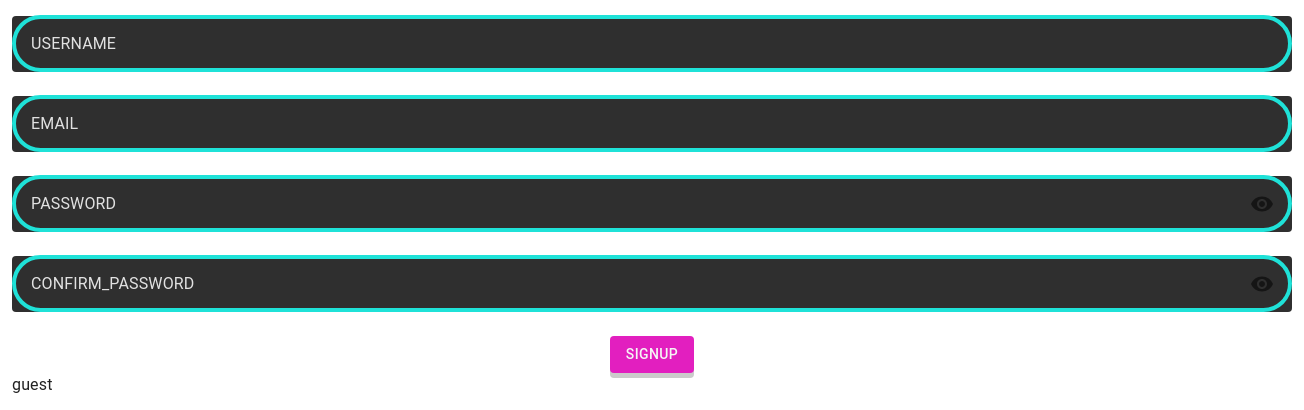
Test: auth integration tests › registers a new user via mock db and sets auth state
Type "alice" into the field labelled "USERNAME" at [652, 44], box [12,16,1292,72]
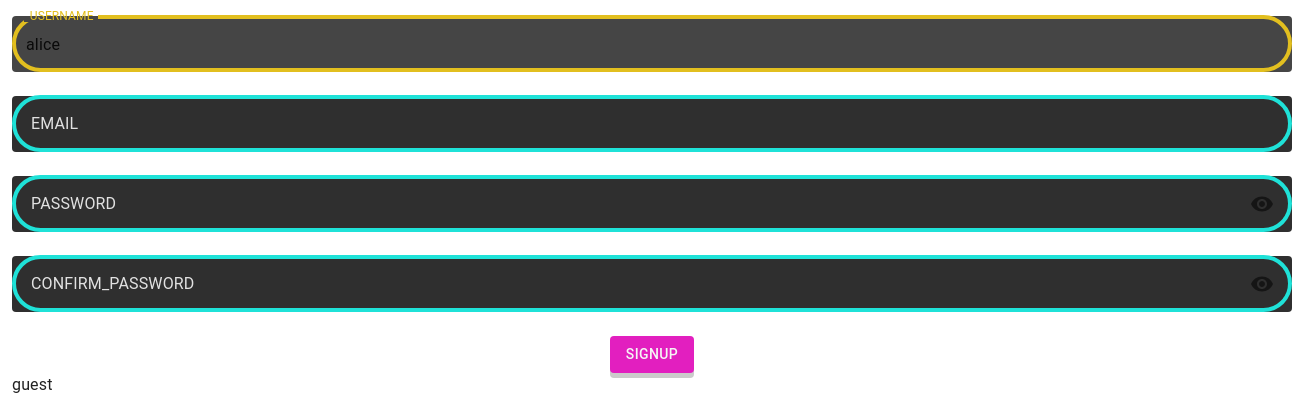
Type "alice@42.fr" into the field labelled "EMAIL" at [652, 124], box [12,96,1292,152]
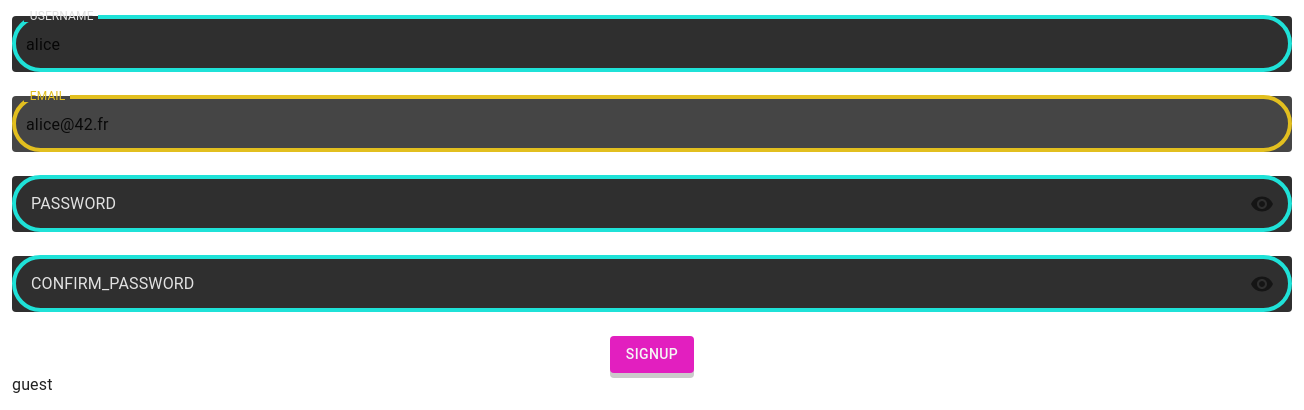
Type "Secret1!" into the password field labelled "PASSWORD" at [623, 204], box [12,176,1234,232]
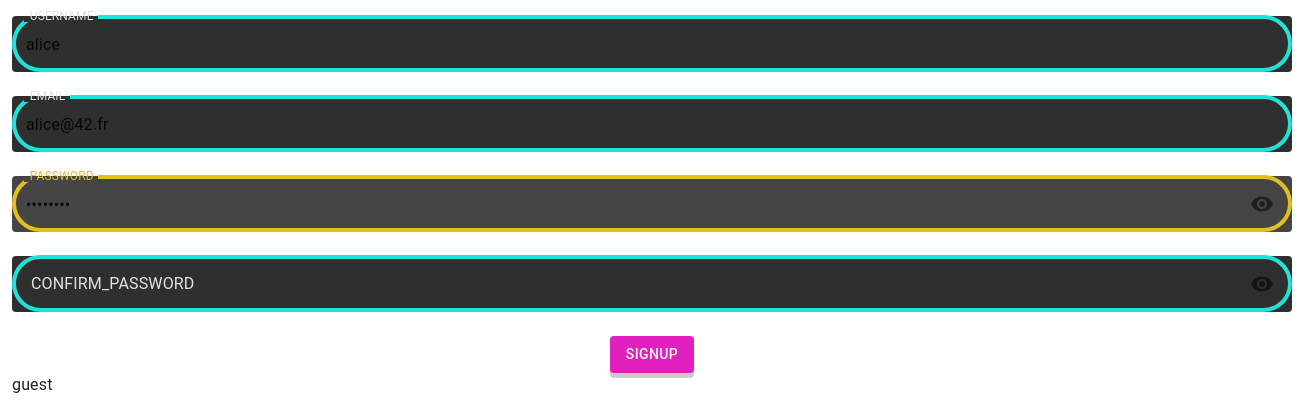
Type "Secret1!" into the password field labelled "CONFIRM_PASSWORD" at [623, 284], box [12,256,1234,312]
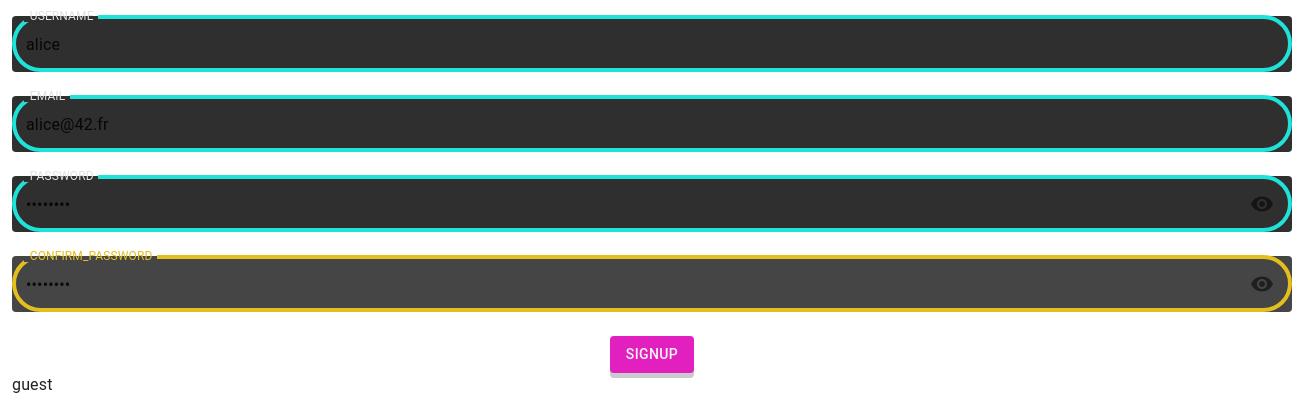
Click the button "SIGNUP" at [652, 354], box [610,336,694,372]
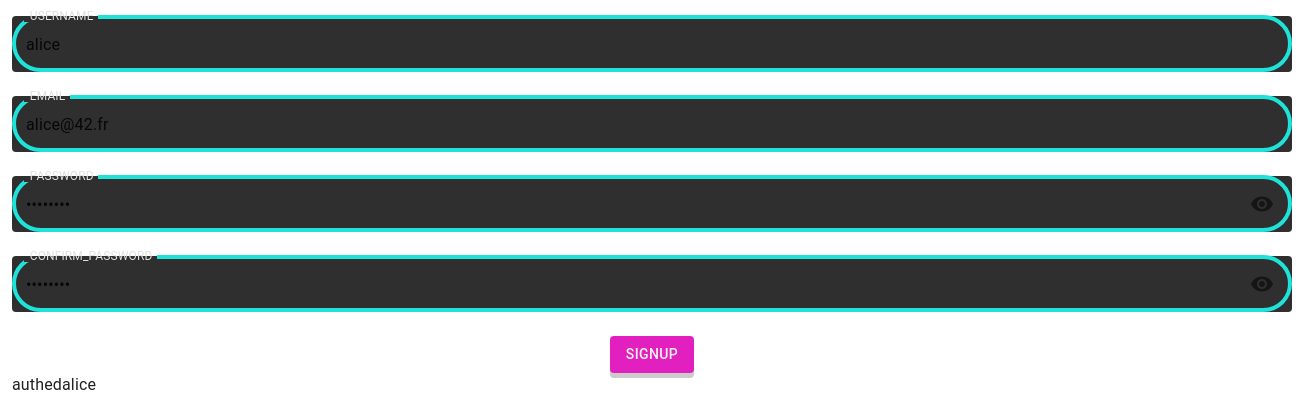
expect the text with test id "status" reads "authed": met, box [12,374,62,394]
expect the text with test id "username" reads "alice": met, box [62,374,96,394]
